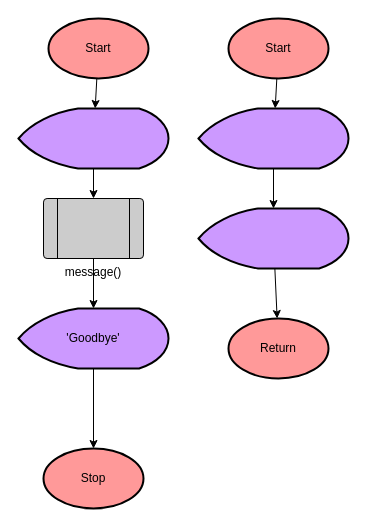
The diagram is 366 pixels wide and 526 high, and some of its shapes have lost their labels. The shapes that lost their labels are listed below. From the top down, each one's box as (x1, y1, x2, y2) in pixels, then its label:
(17, 107, 169, 169): "I have a messgae fro you"
(197, 107, 349, 169): 'I am Arther'
(197, 207, 349, 269): 'King of the Britons'
